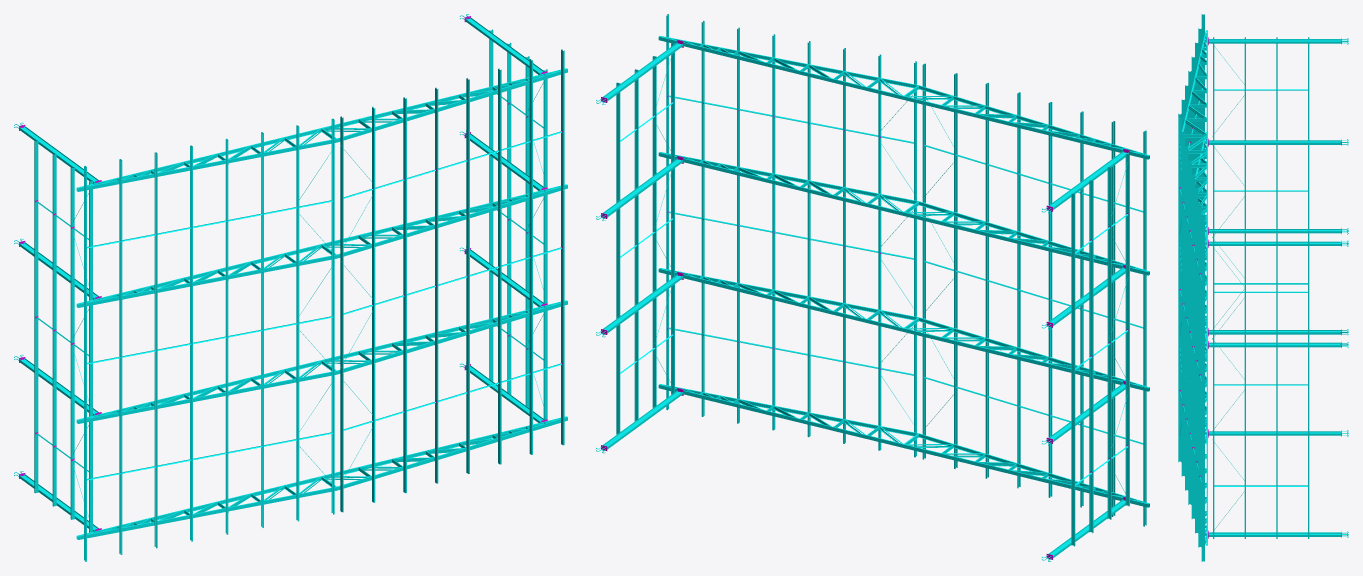
Rendered from 3D_0_ifc.obj.
The picture shows the model from 3 angles, left to right: view 1: azimuth 30°, elevation 25°; view 2: azimuth 150°, elevation 25°; view 3: azimuth 270°, elevation 25°; orthographic projection. The views are drawn at different scales.
Parts seen in each view (by area): view 1: 7DCF, 7DEF, 7E0F, 7DAF, 31A, 7D6C, 7D4B, 7D8D, 7DF0, 7E10, 7DD0, 7DB0 (+4 smaller); view 2: 7E10, 31B, 7D8E, 7D6D, 7D4C, 7DD0, 7DF0, 7DB0, 31A, 7D4B, 7D6C, 7D8D (+4 smaller); view 3: 7C6F, 7C84, 7C7D, 79D3, 7BAA, 7BA0, 7B96, 7C76, 7ED4, 7F5A, 7EF4, 7EE5 (+25 smaller).
Boxes of the visible parts, x1,y1,x2,y2 form: 7DCF: (77,370,336,423); 7DEF: (77,255,336,307); 7E0F: (77,138,336,191); 7DAF: (77,487,336,539); 31A: (337,68,567,142); 7D6C: (337,301,567,374); 7D4B: (336,184,567,258); 7D8D: (336,417,567,490); 7DF0: (76,244,321,307); 7E10: (76,128,321,191); 7DD0: (76,360,321,423); 7DB0: (76,476,321,539); 7E10: (903,96,1148,159); 31B: (658,36,903,99); 7D8E: (658,384,903,447); 7D6D: (658,268,903,331); 7D4C: (658,152,903,215); 7DD0: (903,328,1148,391); 7DF0: (903,212,1148,275); 7DB0: (903,444,1148,507); 31A: (659,36,918,88); 7D4B: (659,152,918,204); 7D6C: (660,268,918,320); 7D8D: (660,384,918,436); 7C6F: (1208,342,1341,347); 7C84: (1208,39,1341,43); 7C7D: (1208,140,1341,144); 79D3: (1208,229,1341,233); 7BAA: (1208,532,1341,536); 7BA0: (1208,431,1341,435); 7B96: (1208,330,1341,334); 7C76: (1208,241,1341,245); 7ED4: (1201,217,1204,338); 7F5A: (1201,441,1204,561); 7EF4: (1181,131,1184,253); 7EE5: (1191,174,1194,296).
Size of the model in its own units: 22100 by 17000 by 7639.
